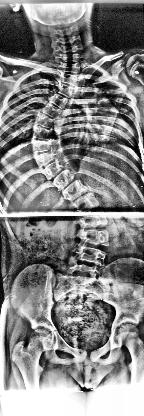Vertebrae: (76, 206, 110, 230), (74, 245, 108, 268), (70, 191, 102, 215), (76, 227, 110, 247), (62, 179, 90, 203), (51, 168, 76, 194), (39, 100, 65, 122), (32, 150, 58, 171), (42, 158, 64, 182), (34, 112, 60, 130), (47, 92, 71, 110), (54, 80, 76, 98), (30, 138, 54, 154), (31, 124, 53, 141), (56, 62, 84, 74), (57, 72, 81, 86)
